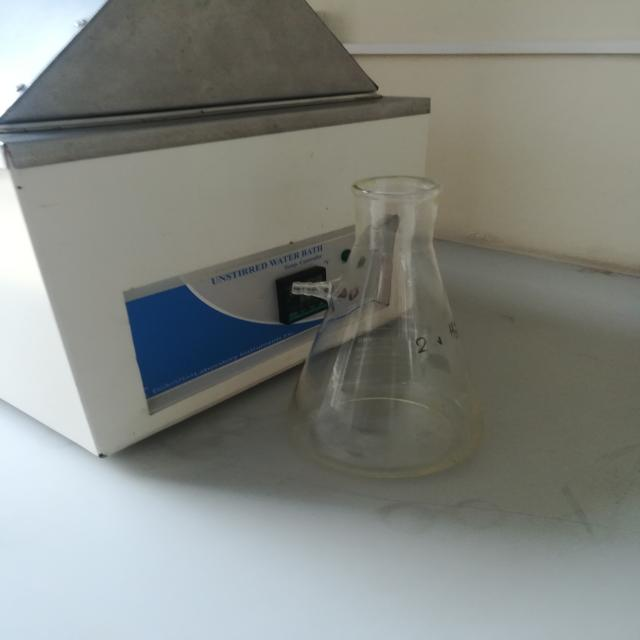Conical_Flask: (196, 137, 562, 492)
